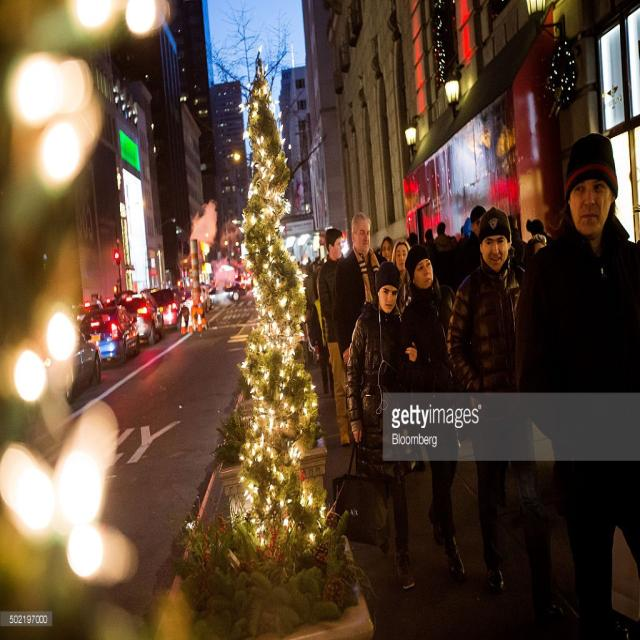body: (512, 129, 640, 639), (444, 205, 528, 592), (330, 260, 418, 592), (398, 242, 466, 581), (333, 209, 388, 368), (318, 227, 353, 446), (294, 254, 326, 388), (461, 205, 488, 285), (507, 212, 552, 258), (390, 238, 412, 318), (403, 216, 449, 248), (376, 236, 394, 261)
